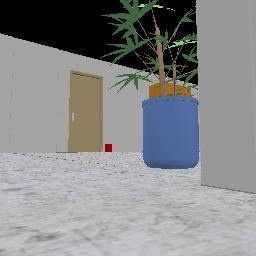planta: (105, 0, 199, 167)
rosu: (105, 144, 111, 151)
